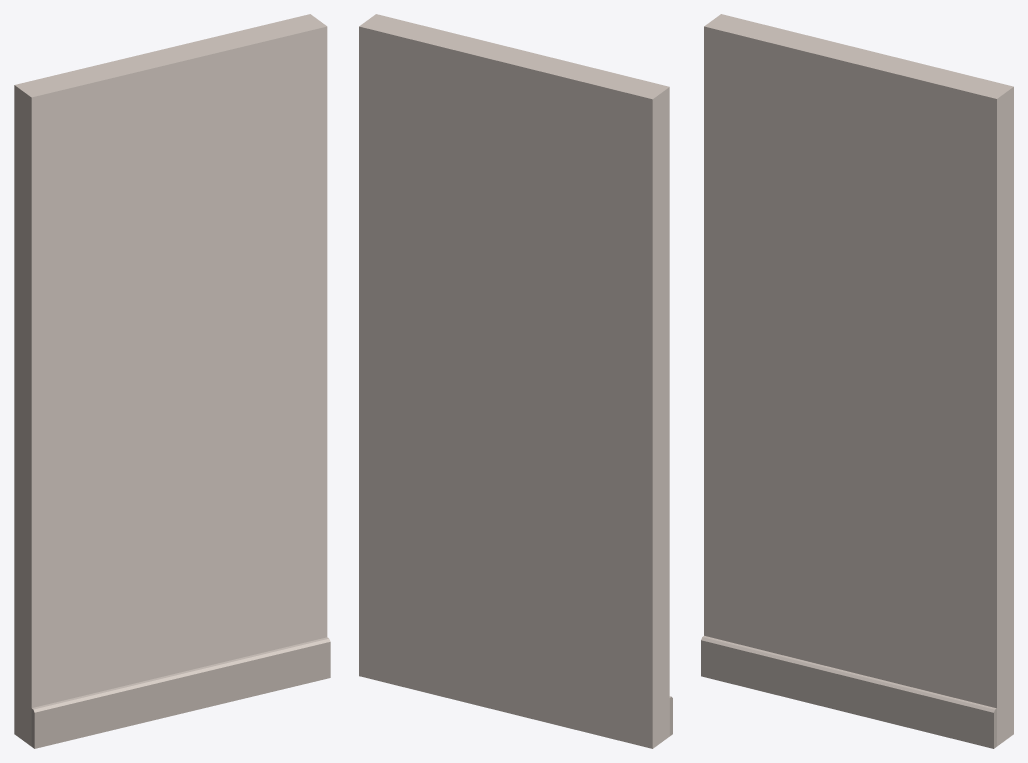
Rendered from WallSingleSkirting.fbx.
3 renders of one model, left to right at view 1: azimuth 30°, elevation 25°; view 2: azimuth 150°, elevation 25°; view 3: azimuth 330°, elevation 25°, orthographic.
Parts seen in each view (by area): view 1: Wall_Inner_Skirting100; view 2: Wall_Inner_Skirting100; view 3: Wall_Inner_Skirting100.
Boxes of the visible parts, x1,y1,x2,y2 form: Wall_Inner_Skirting100: (14, 14, 330, 748); Wall_Inner_Skirting100: (359, 14, 672, 748); Wall_Inner_Skirting100: (701, 14, 1013, 748).
Size of the model in its own units: 120 by 252 by 15.04.
1 material, 1 textured.
